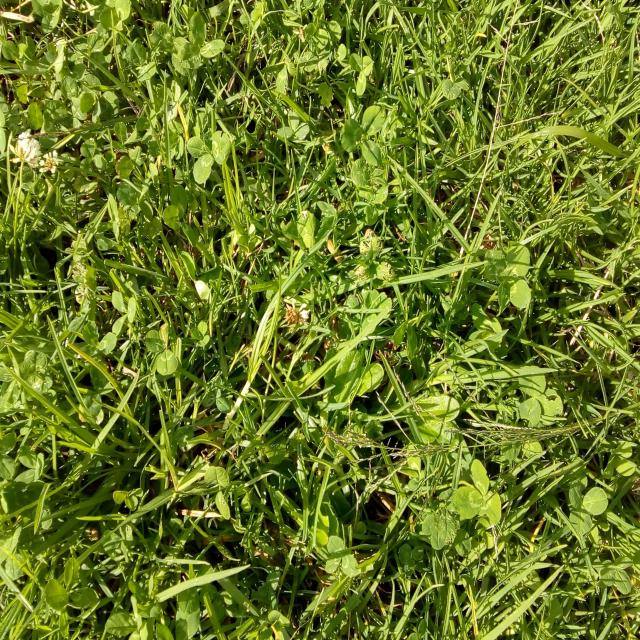Four Leaf Clover: (484, 243, 531, 315)
